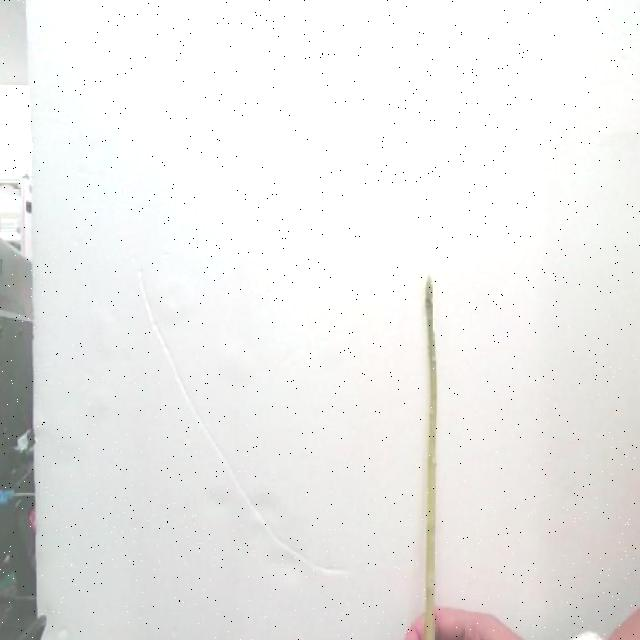aspargus: (424, 277, 440, 640)
